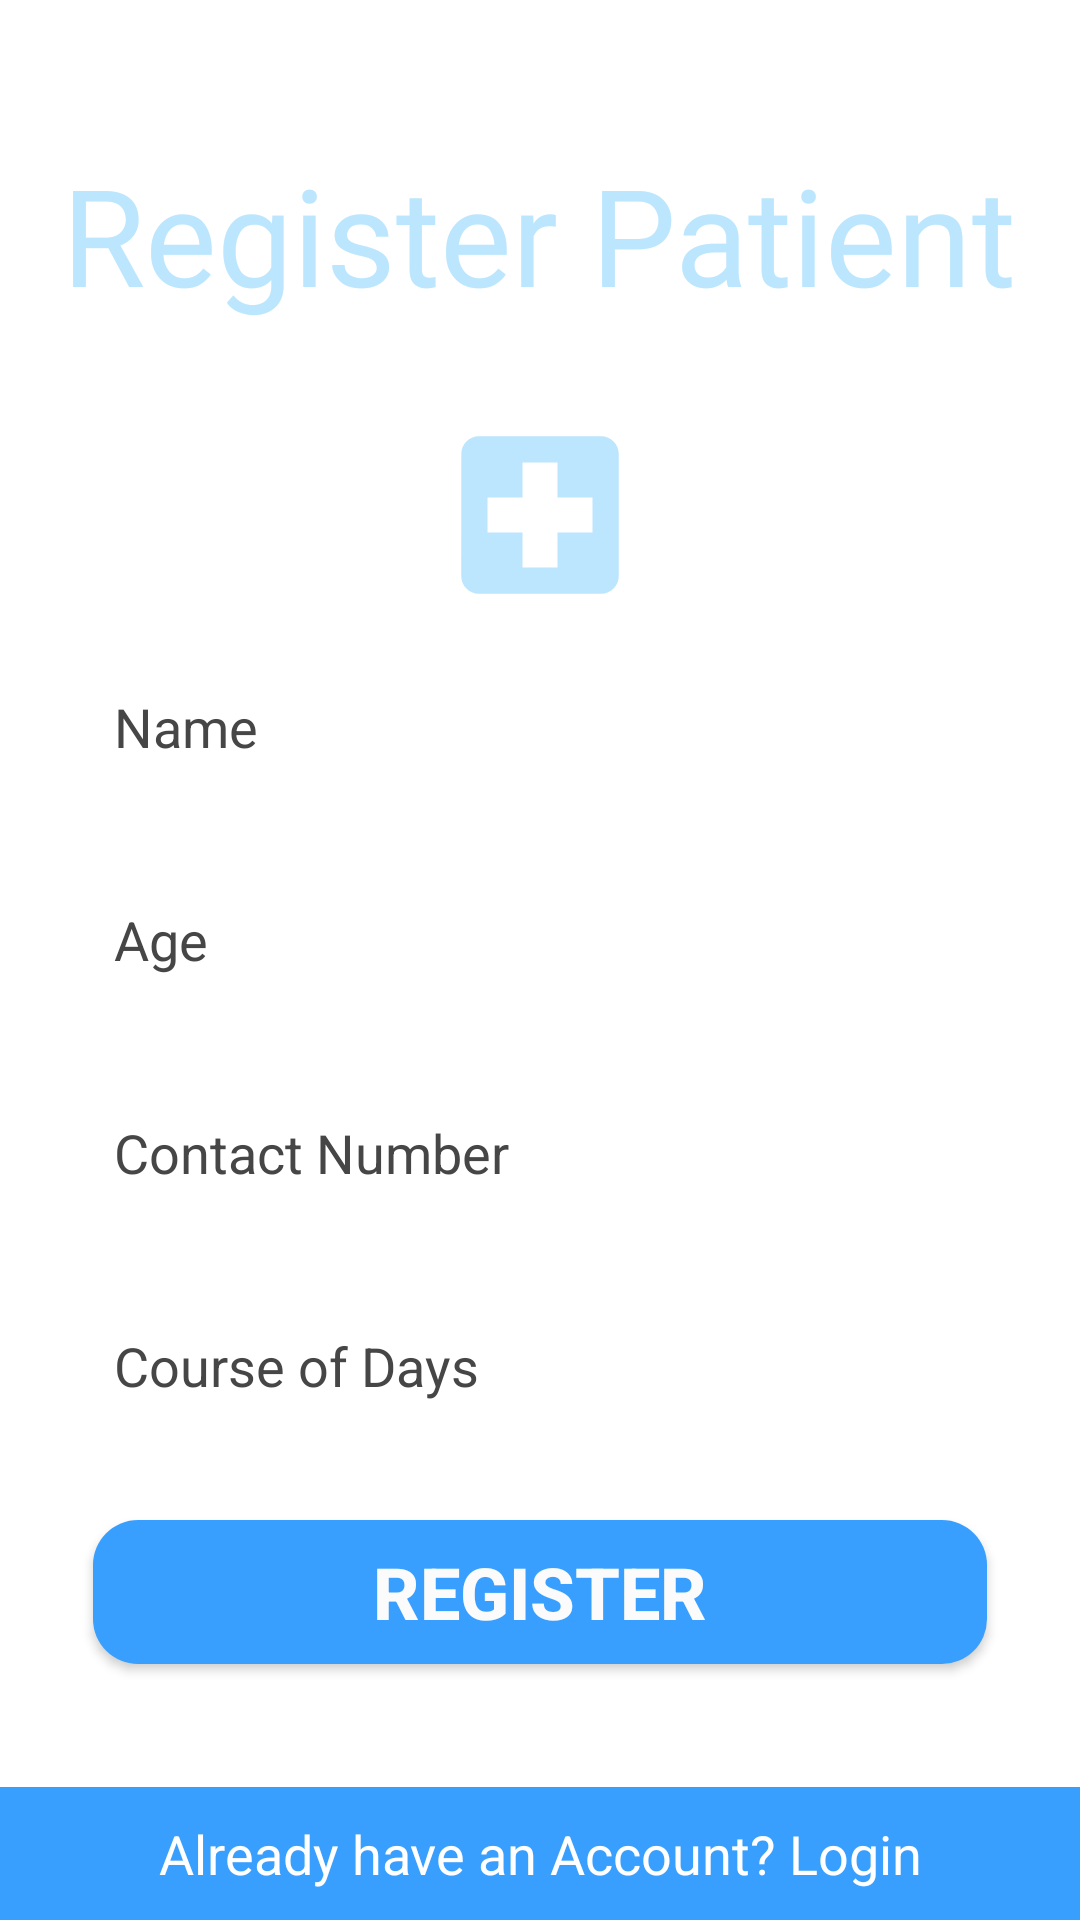

Icons on this 1080*1920 Android screen, each with the point to tap as [x,y]:
local hospital: [540,515]
